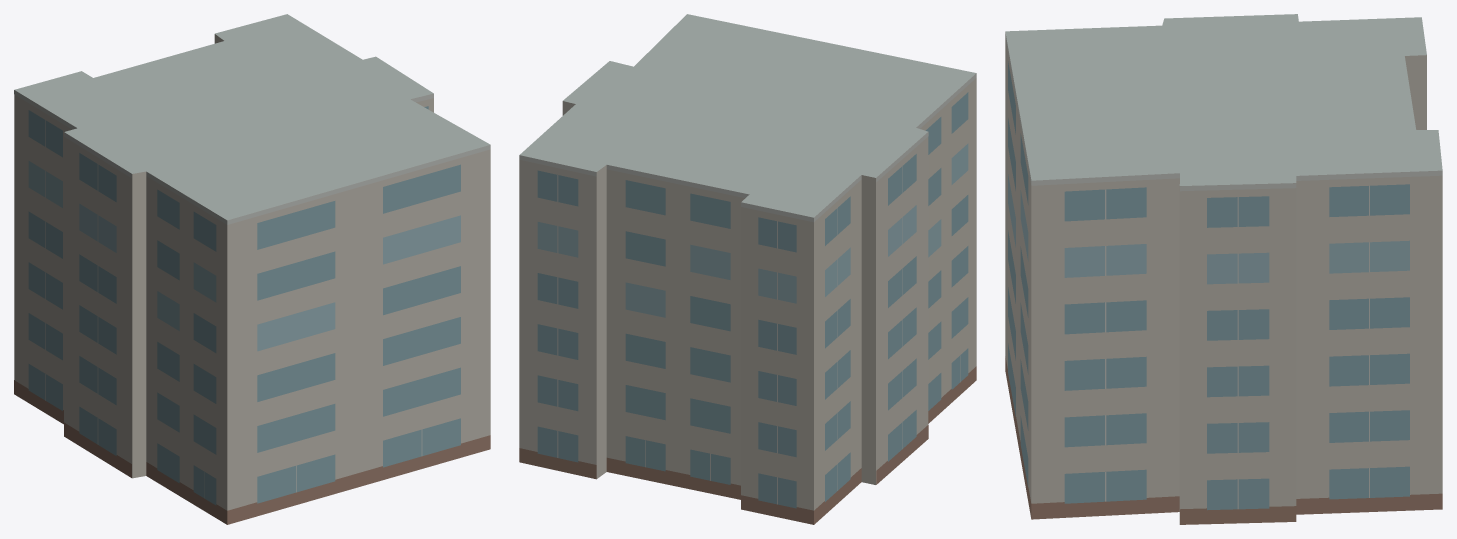
Rendered from survey-upis-32563223.glb.
3 views of the same model, side by side, from view 1: azimuth 30°, elevation 25°; view 2: azimuth 150°, elevation 25°; view 3: azimuth 270°, elevation 25° (orthographic). The views are drawn at different scales.
Visible parts, largest first — view 1: survey-upis-32563223.tmp; view 2: survey-upis-32563223.tmp; view 3: survey-upis-32563223.tmp.
Part boxes in pixels (x1,y1,x2,y2): survey-upis-32563223.tmp: (14,14,490,524); survey-upis-32563223.tmp: (519,14,976,524); survey-upis-32563223.tmp: (1005,14,1442,524).
Size of the model in its own units: 17.71 by 16.25 by 19.02.
